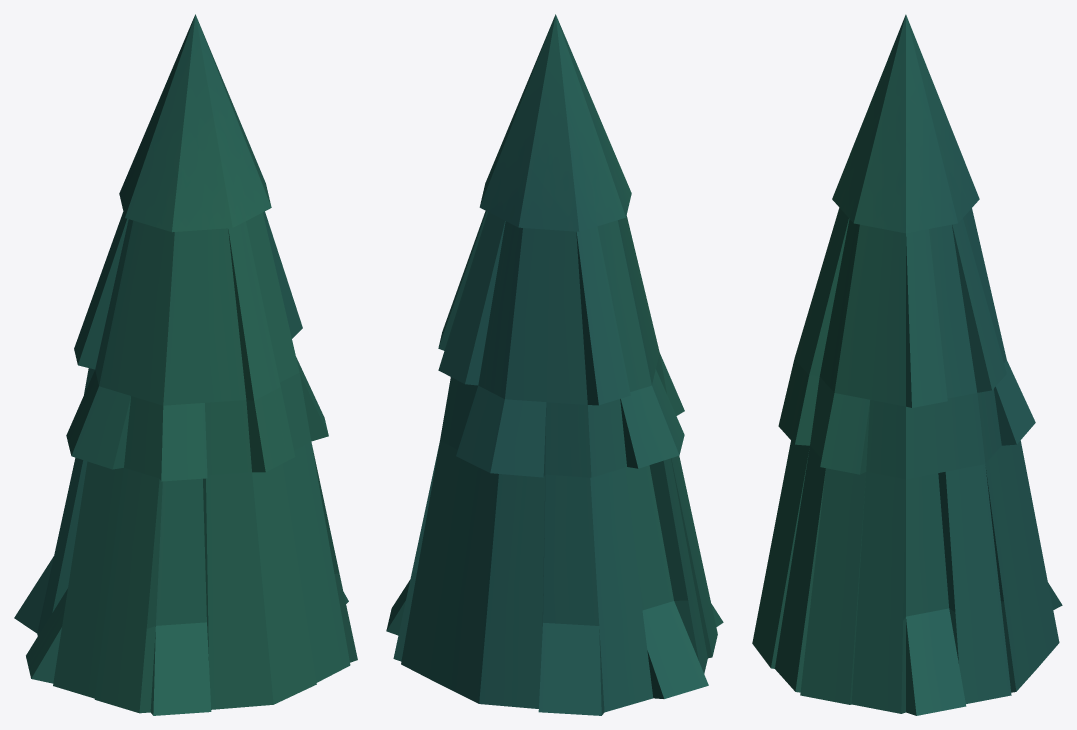
File: ConeTree01.fbx
3 renders of one model, left to right at view 1: azimuth 30°, elevation 25°; view 2: azimuth 150°, elevation 25°; view 3: azimuth 270°, elevation 25°, orthographic.
Parts seen in each view (by area): view 1: Cone.001; view 2: Cone.001; view 3: Cone.001.
Boxes of the visible parts, box(x1,y1,x2,y2) form: Cone.001: box(14, 14, 357, 715); Cone.001: box(386, 14, 723, 715); Cone.001: box(752, 14, 1062, 715).
Size of the model in its own units: 356 by 684 by 304.
